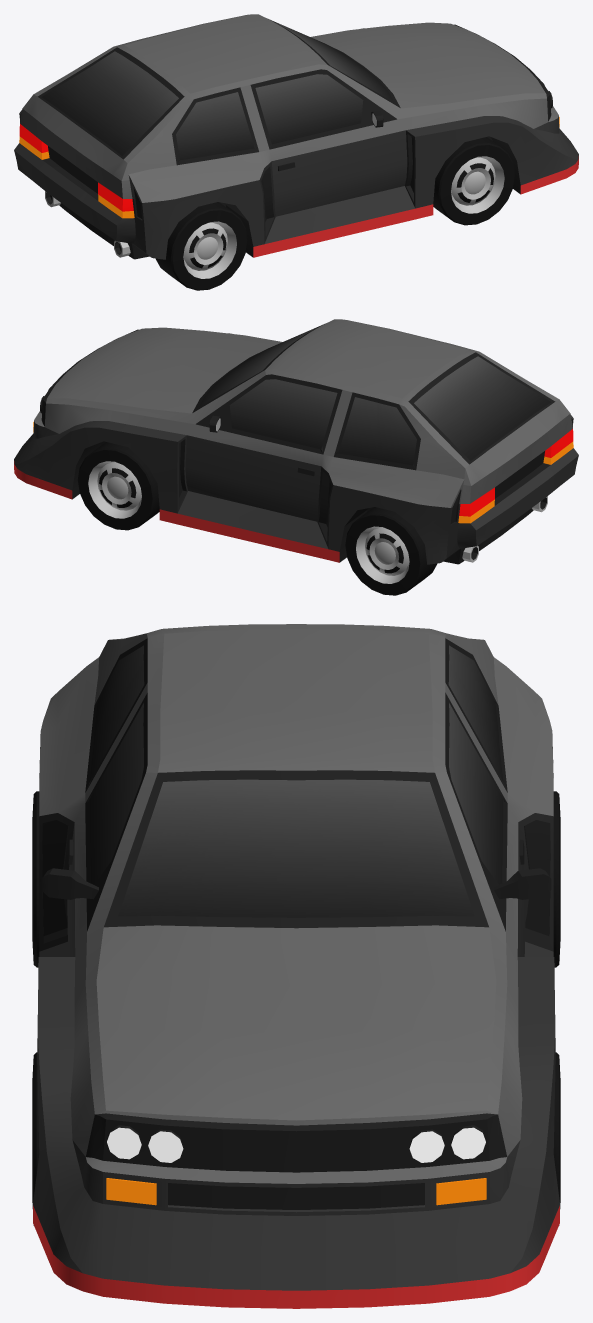
The model's file is Car_221.glb.
3 renders of one model, top to bottom at view 1: azimuth 30°, elevation 25°; view 2: azimuth 150°, elevation 25°; view 3: azimuth 270°, elevation 25°, orthographic. The views are drawn at different scales.
Visible parts, largest first — view 1: Car_221, wheel_3_Car_221_Wheel_2R, wheel_1_Car_221_Wheel_1R; view 2: Car_221, wheel_2_Car_221_Wheel_2L, wheel_0_Car_221_Wheel_1L; view 3: Car_221, wheel_2_Car_221_Wheel_2L, wheel_3_Car_221_Wheel_2R, wheel_0_Car_221_Wheel_1L, wheel_1_Car_221_Wheel_1R.
Boxes of the visible parts, left/top/right/bottom form: Car_221: left=14, top=14, right=578, bottom=259; wheel_3_Car_221_Wheel_2R: left=156, top=202, right=247, bottom=290; wheel_1_Car_221_Wheel_1R: left=433, top=137, right=515, bottom=225; Car_221: left=14, top=319, right=578, bottom=564; wheel_2_Car_221_Wheel_2L: left=345, top=507, right=436, bottom=595; wheel_0_Car_221_Wheel_1L: left=77, top=442, right=159, bottom=530; Car_221: left=33, top=624, right=559, bottom=1308; wheel_2_Car_221_Wheel_2L: left=553, top=791, right=560, bottom=967; wheel_3_Car_221_Wheel_2R: left=32, top=791, right=39, bottom=967; wheel_0_Car_221_Wheel_1L: left=553, top=1052, right=560, bottom=1225; wheel_1_Car_221_Wheel_1R: left=32, top=1052, right=39, bottom=1225.
Bounding box in the file's own units: 4.18 × 1.44 × 1.99.
Materials: 2 (2 with a texture image).
